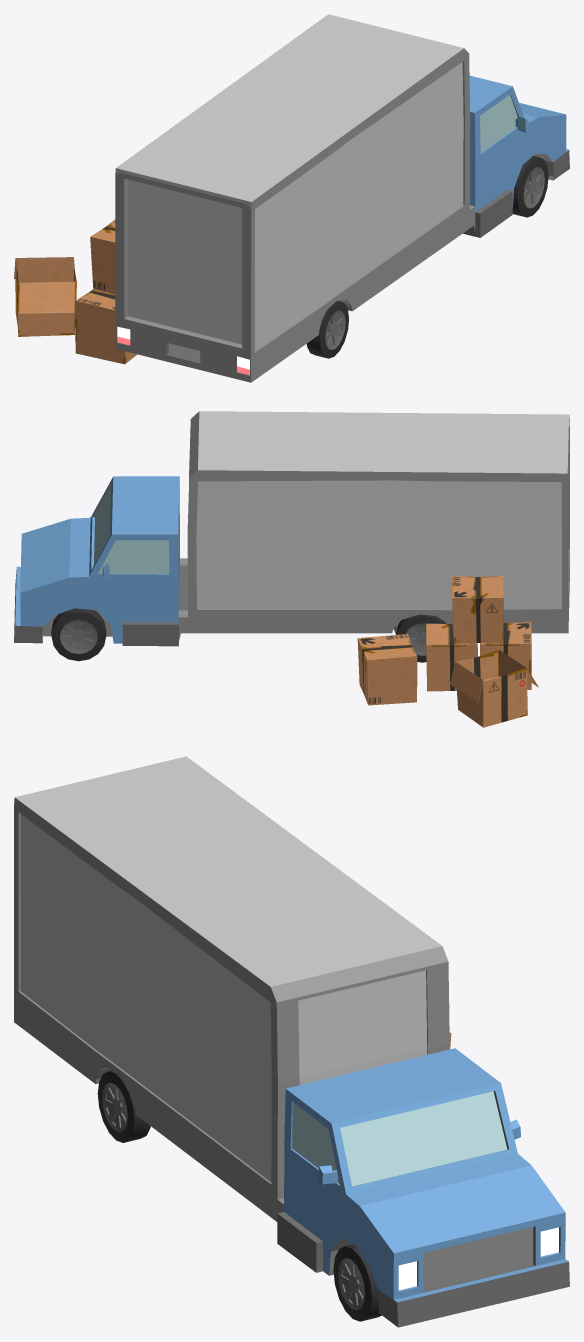
File: deliver_scene.glb
3 renders of one model, top to bottom at view 1: azimuth 30°, elevation 25°; view 2: azimuth 150°, elevation 25°; view 3: azimuth 270°, elevation 25°, orthographic. The views are drawn at different scales.
Parts seen in each view (by area): view 1: Cube.012_15, Cube.004_7, Cube.011_14, Cube.003_6, Cube.010_13, Box.04_Box 4_0.002, Box.02_Box 2_0.002, Wheel.001_19, Box.02_Box 2_0.004, Wheel.004_21, Cube.008_11, Cube.014_17 (+3 smaller); view 2: Cube.012_15, Cube.010_13, Cube.011_14, Box.04_Box 4_0.002, Box.02_Box 2_0.005, Box.02_Box 2_0.004, Cube.014_17, Wheel.003_18, Box.02_Box 2_0.003, Cube.008_11, Box.02_Box 2_0.002, Wheel.002_20 (+2 smaller); view 3: Cube.012_15, Cube.010_13, Cube.011_14, Cube.014_17, Cube.008_11, Wheel.001_19, Wheel.004_21, Cube.009_12.
Part boxes in pixels (x1,y1,x2,y2): Cube.012_15: (116, 14, 463, 350); Cube.004_7: (128, 179, 242, 344); Cube.011_14: (251, 48, 534, 382); Cube.003_6: (115, 154, 553, 382); Cube.010_13: (469, 75, 568, 211); Box.04_Box 4_0.002: (14, 257, 76, 336); Box.02_Box 2_0.002: (75, 289, 136, 364); Wheel.001_19: (512, 155, 548, 217); Box.02_Box 2_0.004: (90, 219, 115, 294); Wheel.004_21: (306, 300, 348, 358); Cube.008_11: (475, 150, 569, 237); Cube.014_17: (480, 95, 517, 152); Cube.012_15: (196, 411, 568, 609); Cube.010_13: (15, 476, 179, 643); Cube.011_14: (42, 411, 568, 640); Box.04_Box 4_0.002: (450, 650, 538, 727); Box.02_Box 2_0.005: (357, 634, 417, 705); Box.02_Box 2_0.004: (452, 576, 503, 643); Cube.014_17: (94, 489, 169, 573); Wheel.003_18: (51, 608, 106, 661); Box.02_Box 2_0.003: (426, 623, 477, 691); Cube.008_11: (14, 563, 179, 646); Box.02_Box 2_0.002: (480, 622, 531, 689); Wheel.002_20: (396, 614, 445, 662); Cube.012_15: (15, 756, 441, 1181); Cube.010_13: (284, 1048, 568, 1302); Cube.011_14: (14, 797, 533, 1290); Cube.014_17: (292, 1091, 507, 1186); Cube.008_11: (277, 1212, 569, 1327); Wheel.001_19: (333, 1244, 381, 1321); Wheel.004_21: (97, 1070, 150, 1142); Cube.009_12: (398, 1227, 558, 1290).
Bounding box in the file's own units: 43.87 × 15.98 × 29.57.
Materials: 15 (2 with a texture image).
